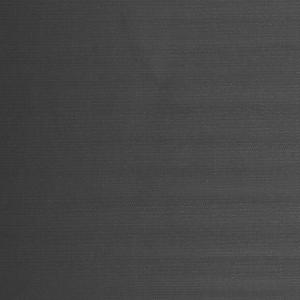Wrinkle: (63, 89, 300, 300)
